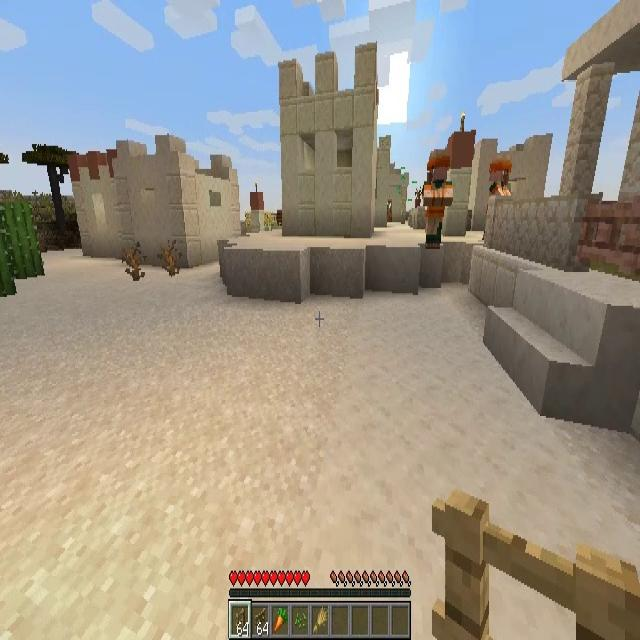people: (422, 150, 453, 247), (482, 158, 512, 240)
